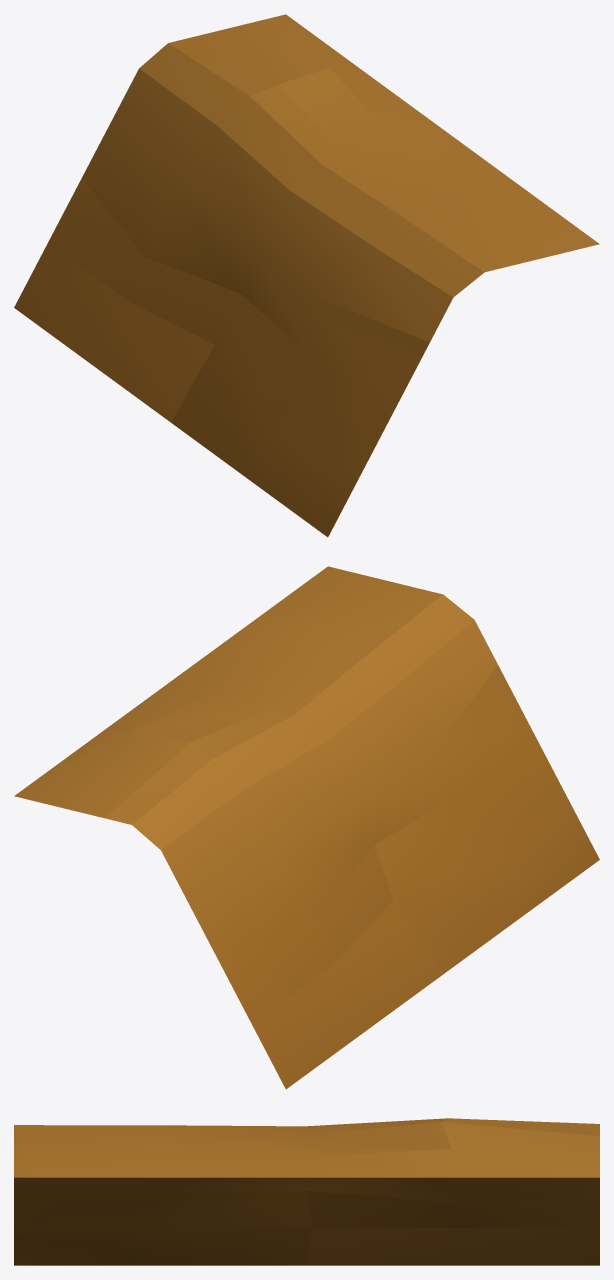
Rendered from cGround_B_Side_1_.glb.
3 views of the same model, one above another, from view 1: azimuth 30°, elevation 25°; view 2: azimuth 150°, elevation 25°; view 3: azimuth 270°, elevation 25° (orthographic). The views are drawn at different scales.
Visible parts, largest first — view 1: cGround_B_Side_1; view 2: cGround_B_Side_1; view 3: cGround_B_Side_1.
Part boxes in pixels (x1,y1,x2,y2): cGround_B_Side_1: (14,14,599,537); cGround_B_Side_1: (14,566,599,1089); cGround_B_Side_1: (14,1118,599,1265).
Bounding box in the file's own units: 4 × 3.4 × 8.
Materials: 1 (1 with a texture image).
